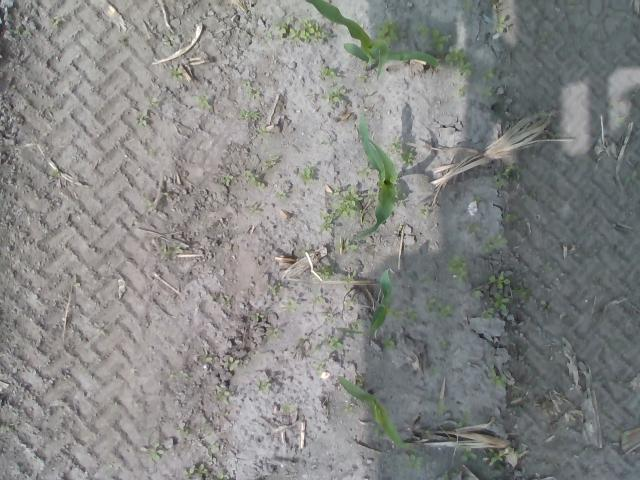Maize: (304, 0, 439, 84), (356, 114, 399, 240), (336, 375, 406, 448), (370, 266, 396, 338)
Weeds: (416, 21, 471, 76), (480, 270, 530, 321), (319, 185, 364, 234), (274, 14, 330, 43), (375, 17, 401, 47), (478, 230, 508, 255), (492, 166, 520, 192), (239, 110, 266, 136), (425, 296, 455, 318), (446, 254, 469, 280), (405, 448, 426, 473), (390, 142, 412, 163), (481, 446, 504, 466), (141, 440, 163, 460), (243, 169, 266, 188), (182, 463, 206, 480), (321, 88, 345, 104), (222, 356, 244, 373), (455, 407, 473, 427), (336, 237, 356, 255), (254, 377, 274, 395), (623, 168, 640, 188), (488, 369, 507, 386), (242, 79, 258, 99), (262, 154, 281, 170), (8, 26, 33, 38), (302, 159, 316, 180), (460, 448, 480, 462), (206, 442, 218, 465), (348, 319, 364, 336), (494, 17, 510, 34), (400, 306, 418, 321), (215, 388, 231, 404), (480, 66, 496, 82), (314, 267, 333, 280), (266, 326, 282, 341), (532, 297, 548, 312), (134, 111, 149, 127), (196, 93, 210, 109), (437, 396, 448, 416), (506, 406, 527, 416), (434, 338, 450, 351), (504, 212, 521, 224), (436, 470, 456, 480), (382, 336, 396, 350), (168, 66, 182, 80), (144, 96, 160, 108), (220, 173, 233, 187), (416, 205, 431, 217), (321, 66, 336, 78), (478, 86, 494, 96), (468, 194, 480, 207), (344, 270, 357, 282), (343, 402, 356, 414), (328, 336, 342, 347), (282, 403, 298, 412), (274, 190, 288, 200), (200, 354, 214, 364), (312, 296, 326, 306), (357, 165, 369, 176), (510, 384, 520, 397), (356, 74, 369, 84), (50, 15, 60, 28), (285, 302, 296, 313), (454, 88, 466, 97), (177, 370, 190, 378), (217, 472, 230, 480), (273, 282, 285, 290), (255, 312, 264, 321)
